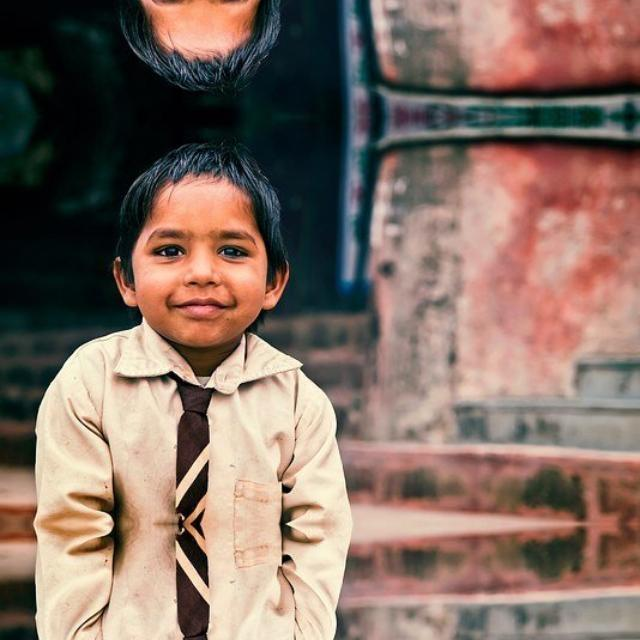person: (99, 127, 303, 421), (99, 0, 303, 105), (99, 626, 303, 640)
